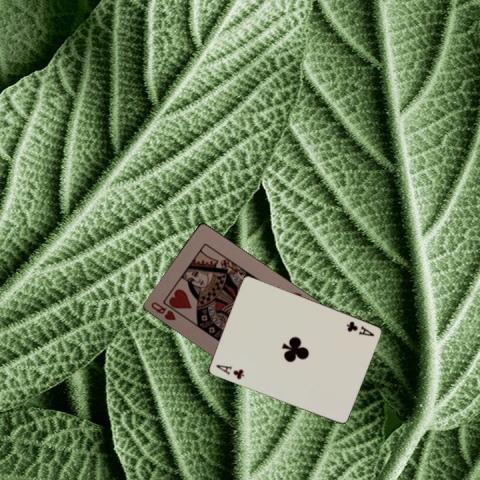Ac: (213, 361, 245, 381), (344, 319, 376, 338)
Qh: (148, 299, 177, 322)
